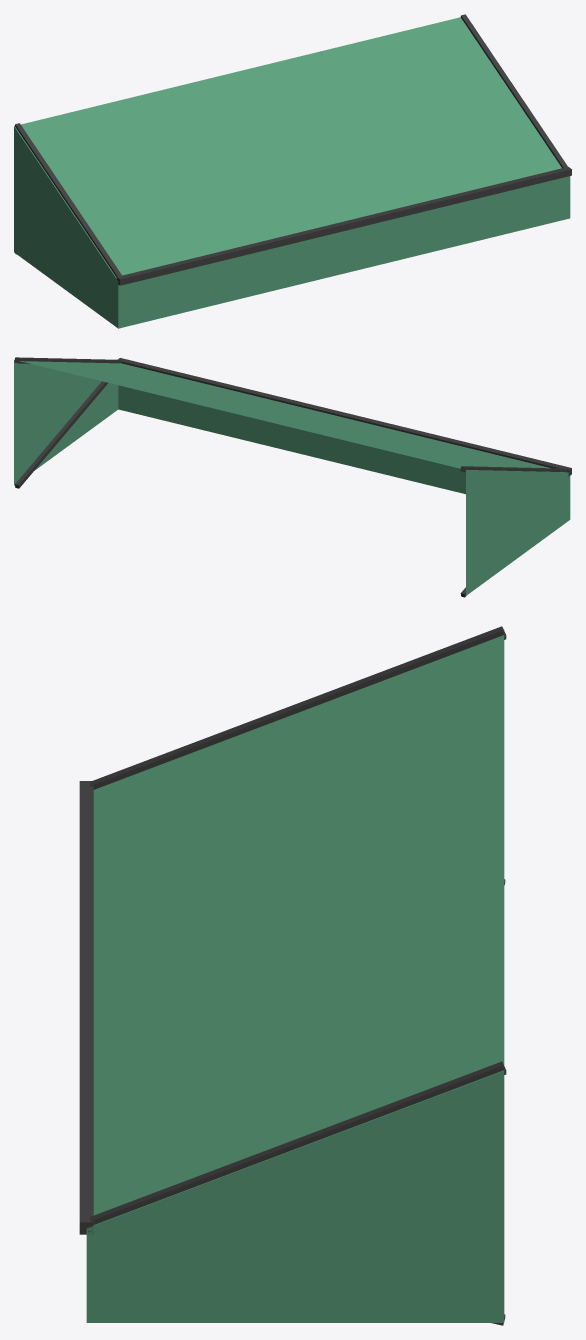
File: awning_fabric_3m_green.glb
3 views of the same model, one above another, from view 1: azimuth 30°, elevation 25°; view 2: azimuth 150°, elevation 25°; view 3: azimuth 270°, elevation 25° (orthographic). The views are drawn at different scales.
Parts seen in each view (by area): view 1: awning; view 2: awning; view 3: awning.
Boxes of the visible parts, x1,y1,x2,y2 form: awning: [14, 14, 571, 328]; awning: [14, 357, 571, 597]; awning: [79, 626, 506, 1325].
Bounding box in the file's own units: 3 × 0.826 × 1.23.
